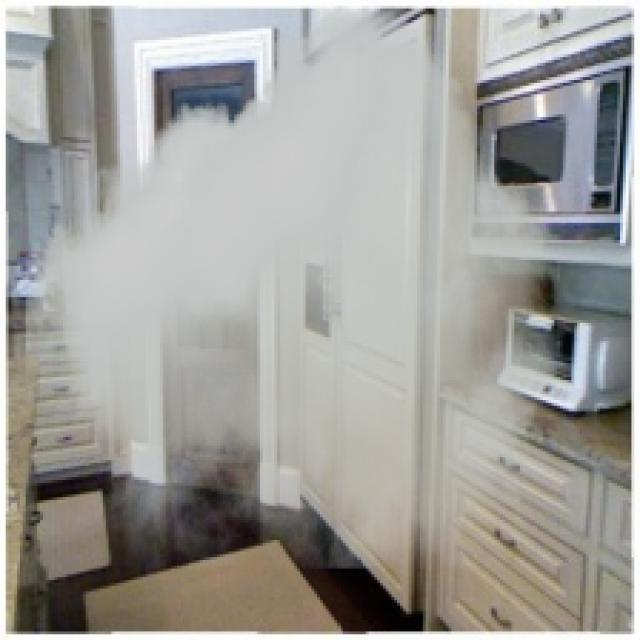Smoke: (26, 6, 560, 568)
